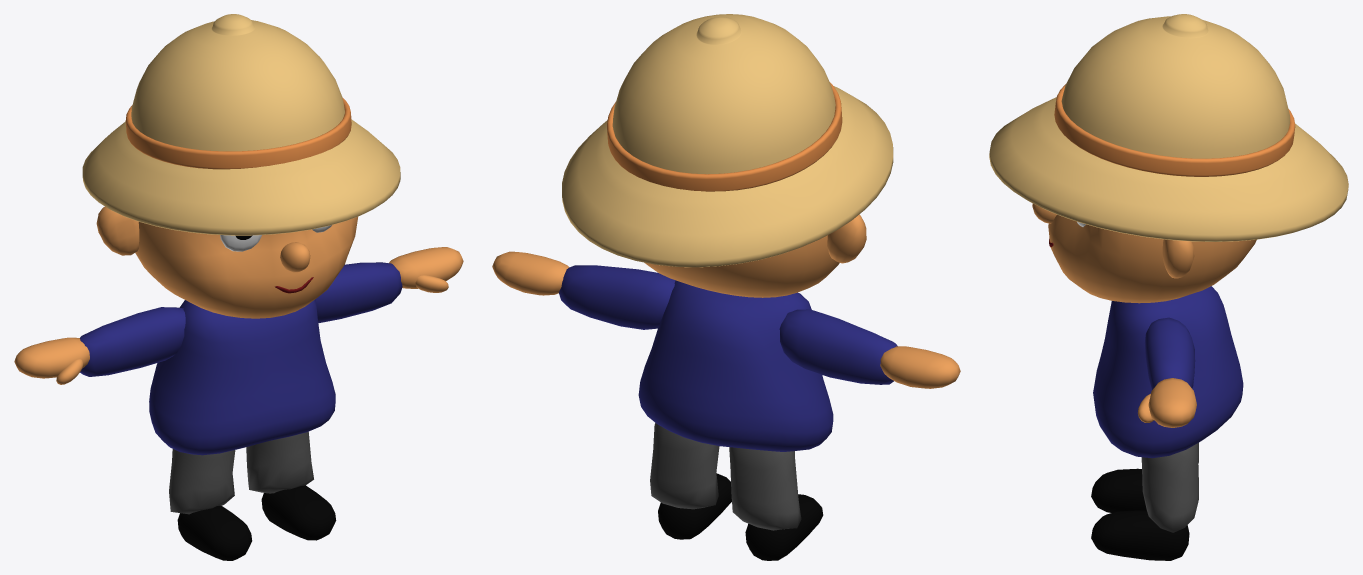
Rendered from personajecalvo.fbx.
3 renders of one model, left to right at view 1: azimuth 30°, elevation 25°; view 2: azimuth 150°, elevation 25°; view 3: azimuth 270°, elevation 25°, orthographic. The views are drawn at different scales.
Parts seen in each view (by area): view 1: personaje 1; view 2: personaje 1; view 3: personaje 1.
Boxes of the visible parts, <box> form: personaje 1: <box>14,14,463,560</box>; personaje 1: <box>492,14,960,560</box>; personaje 1: <box>989,14,1348,560</box>.
Size of the model in its own units: 1118 by 1233 by 773.
